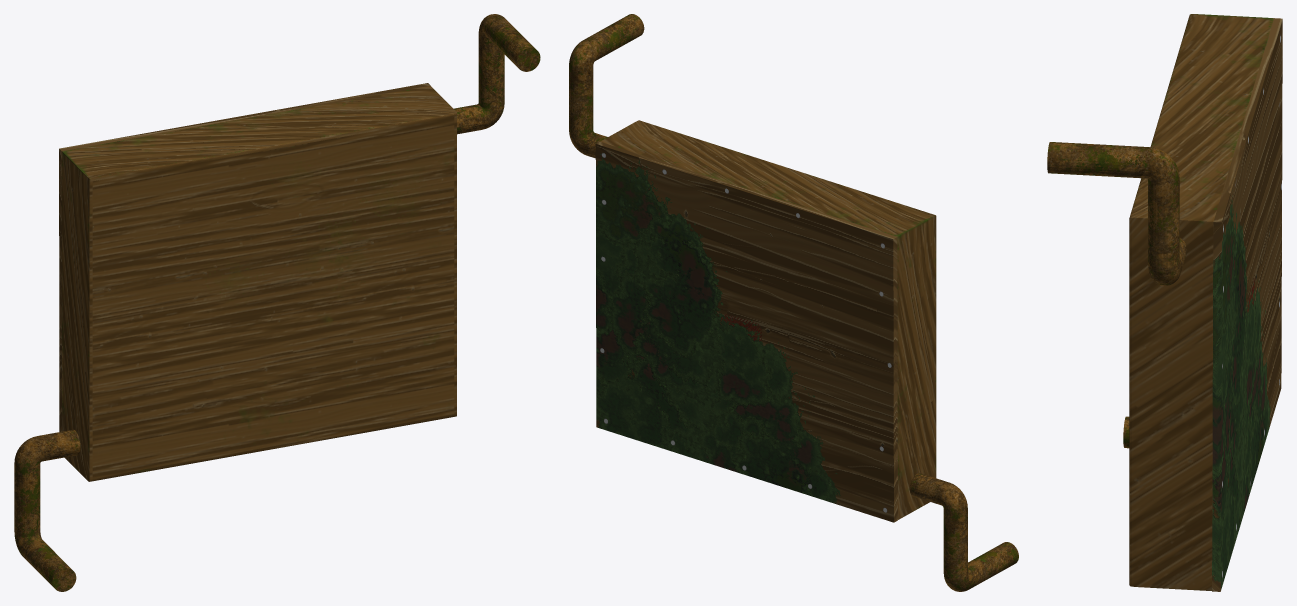
File: Submarine_Pipe_Box_Full.fbx
The picture shows the model from 3 angles, left to right: view 1: azimuth 30°, elevation 25°; view 2: azimuth 150°, elevation 25°; view 3: azimuth 270°, elevation 25°; orthographic projection. The views are drawn at different scales.
Parts seen in each view (by area): view 1: PipeBox.001, Main_Pipe.001, Cube; view 2: Cube, PipeBox.001, Main_Pipe.001; view 3: PipeBox.001, Cube, Main_Pipe.001.
Part boxes in pixels (box(x1,y1,x2,y2)): PipeBox.001: box(62, 85, 456, 481); Main_Pipe.001: box(14, 14, 540, 591); Cube: box(59, 83, 430, 431); Cube: box(595, 141, 897, 522); PipeBox.001: box(600, 120, 936, 519); Main_Pipe.001: box(569, 14, 1018, 591); PipeBox.001: box(1129, 14, 1273, 590); Cube: box(1212, 18, 1282, 591); Main_Pipe.001: box(1047, 142, 1187, 448).
Bounding box in the file's own units: 67.46 × 63.82 × 24.32.
